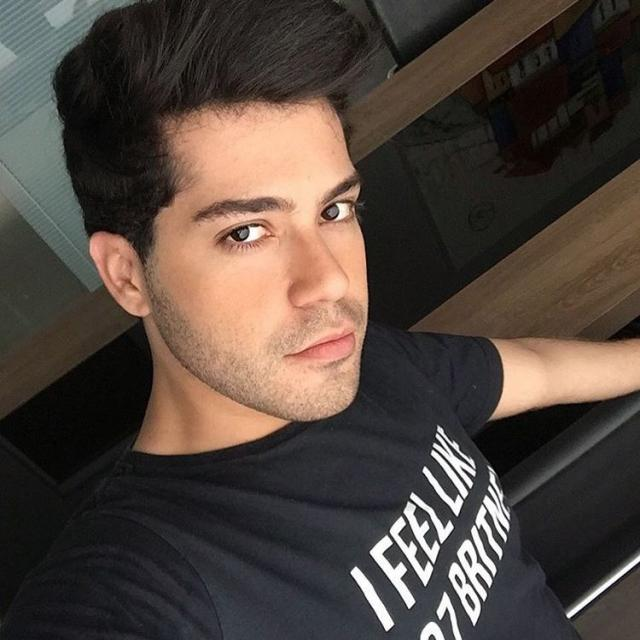earlobe: (119, 283, 152, 318)
eye: (212, 219, 276, 246), (317, 198, 357, 227)
nose: (296, 289, 362, 320)
wholeear: (88, 232, 154, 318)
